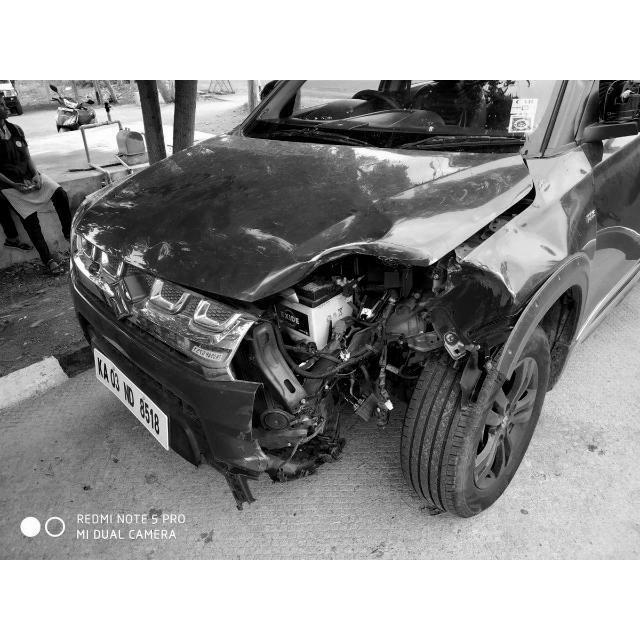Headlight-damage: (261, 273, 413, 376)
bonnet-dent: (339, 166, 531, 252), (215, 235, 440, 294)
fender-dent: (392, 256, 514, 421), (510, 185, 592, 276)
front-bumper-dent: (211, 384, 342, 485)
